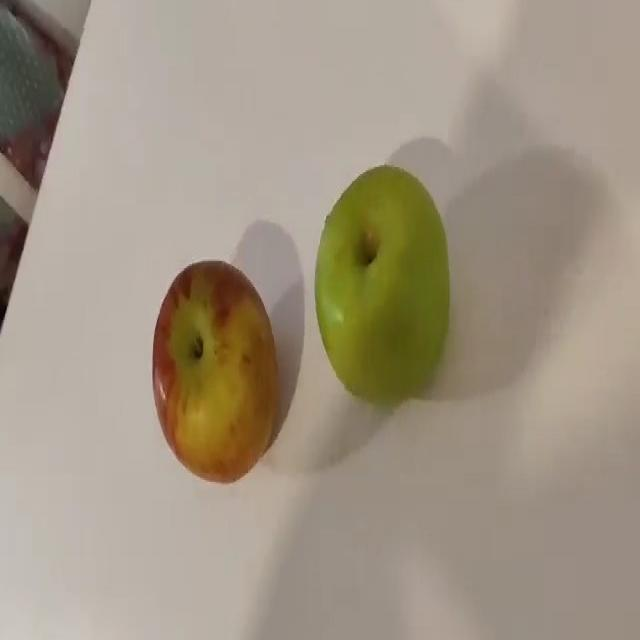Apple: (313, 163, 450, 405), (151, 259, 280, 483)
